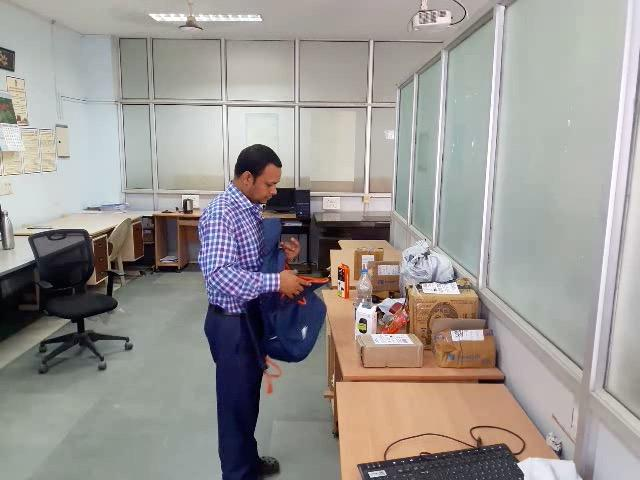shoplifting: (138, 231, 471, 378)
